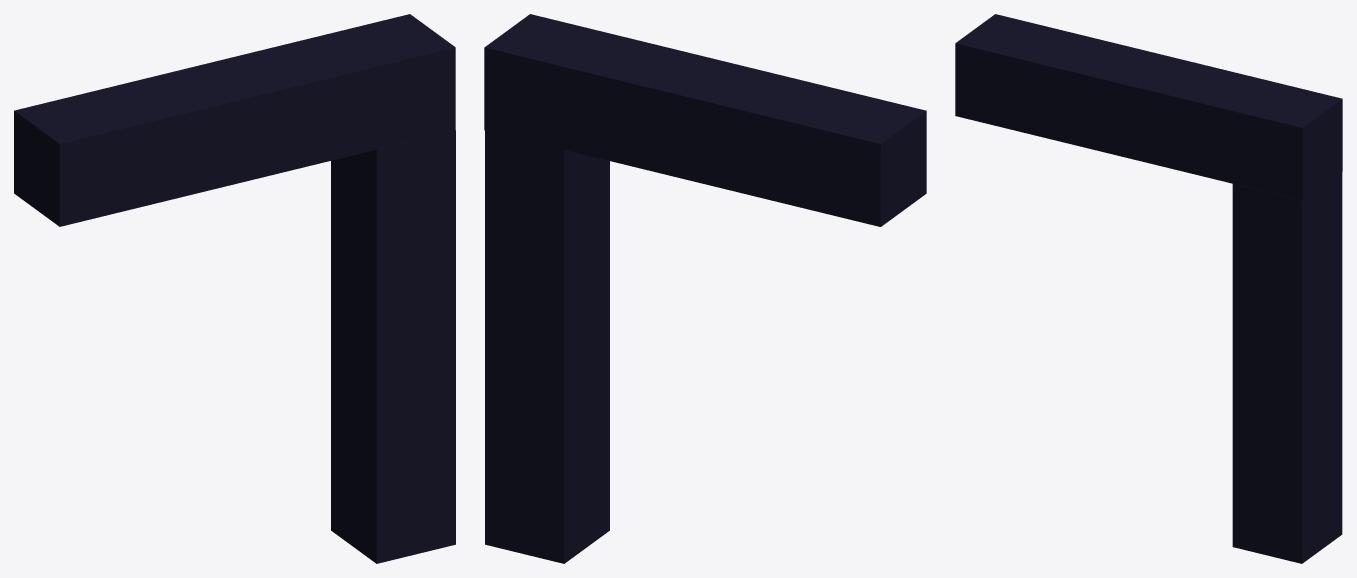
File: holder.fbx
The picture shows the model from 3 angles, left to right: view 1: azimuth 30°, elevation 25°; view 2: azimuth 150°, elevation 25°; view 3: azimuth 330°, elevation 25°; orthographic projection. The views are drawn at different scales.
Parts seen in each view (by area): view 1: 立方体.001; view 2: 立方体.001; view 3: 立方体.001.
Part boxes in pixels (left/top/right/bottom): 立方体.001: left=14, top=14, right=455, bottom=563; 立方体.001: left=484, top=14, right=926, bottom=563; 立方体.001: left=955, top=14, right=1342, bottom=563.
Bounding box in the file's own units: 2000 × 2398 × 403.
